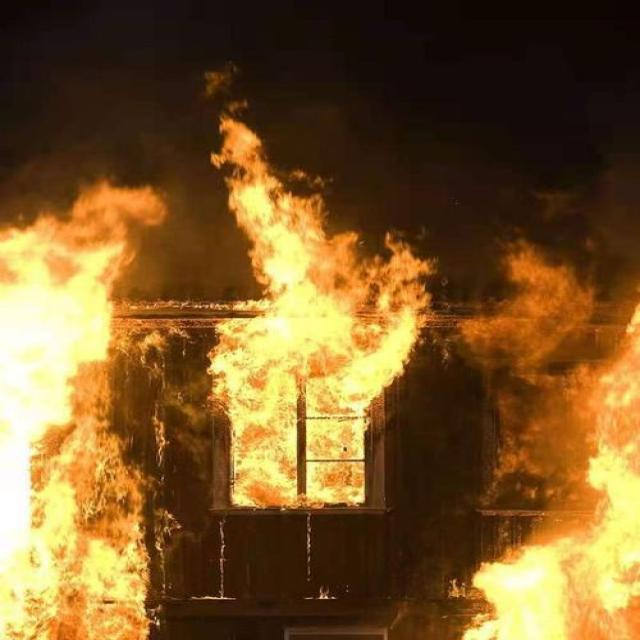Fire: (204, 116, 424, 506), (0, 211, 149, 640), (462, 382, 640, 640)
